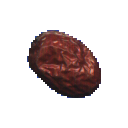gd: (13, 21, 115, 113)
